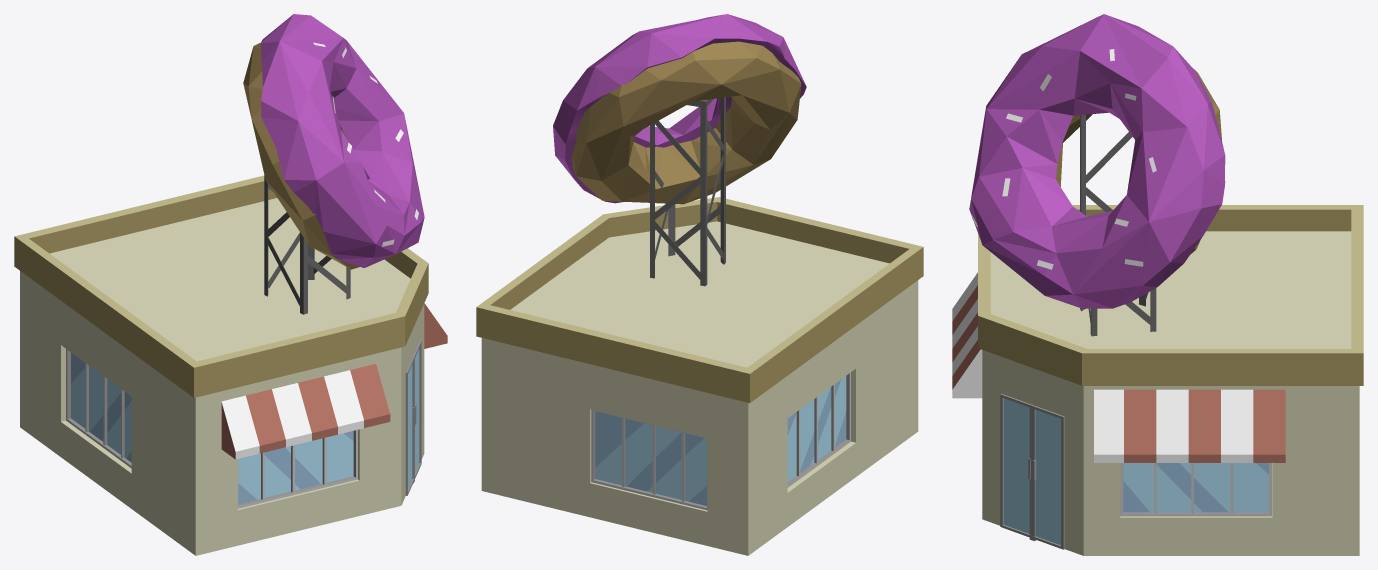
File: cafe_008.fbx
3 renders of one model, left to right at view 1: azimuth 30°, elevation 25°; view 2: azimuth 150°, elevation 25°; view 3: azimuth 270°, elevation 25°, orthographic. The views are drawn at different scales.
Parts seen in each view (by area): view 1: cafe_008; view 2: cafe_008; view 3: cafe_008.
Boxes of the visible parts, x1,y1,x2,y2 form: cafe_008: (14,14,447,555); cafe_008: (476,14,923,555); cafe_008: (952,14,1363,555).
Bounding box in the file's own units: 577 × 791 × 623.
